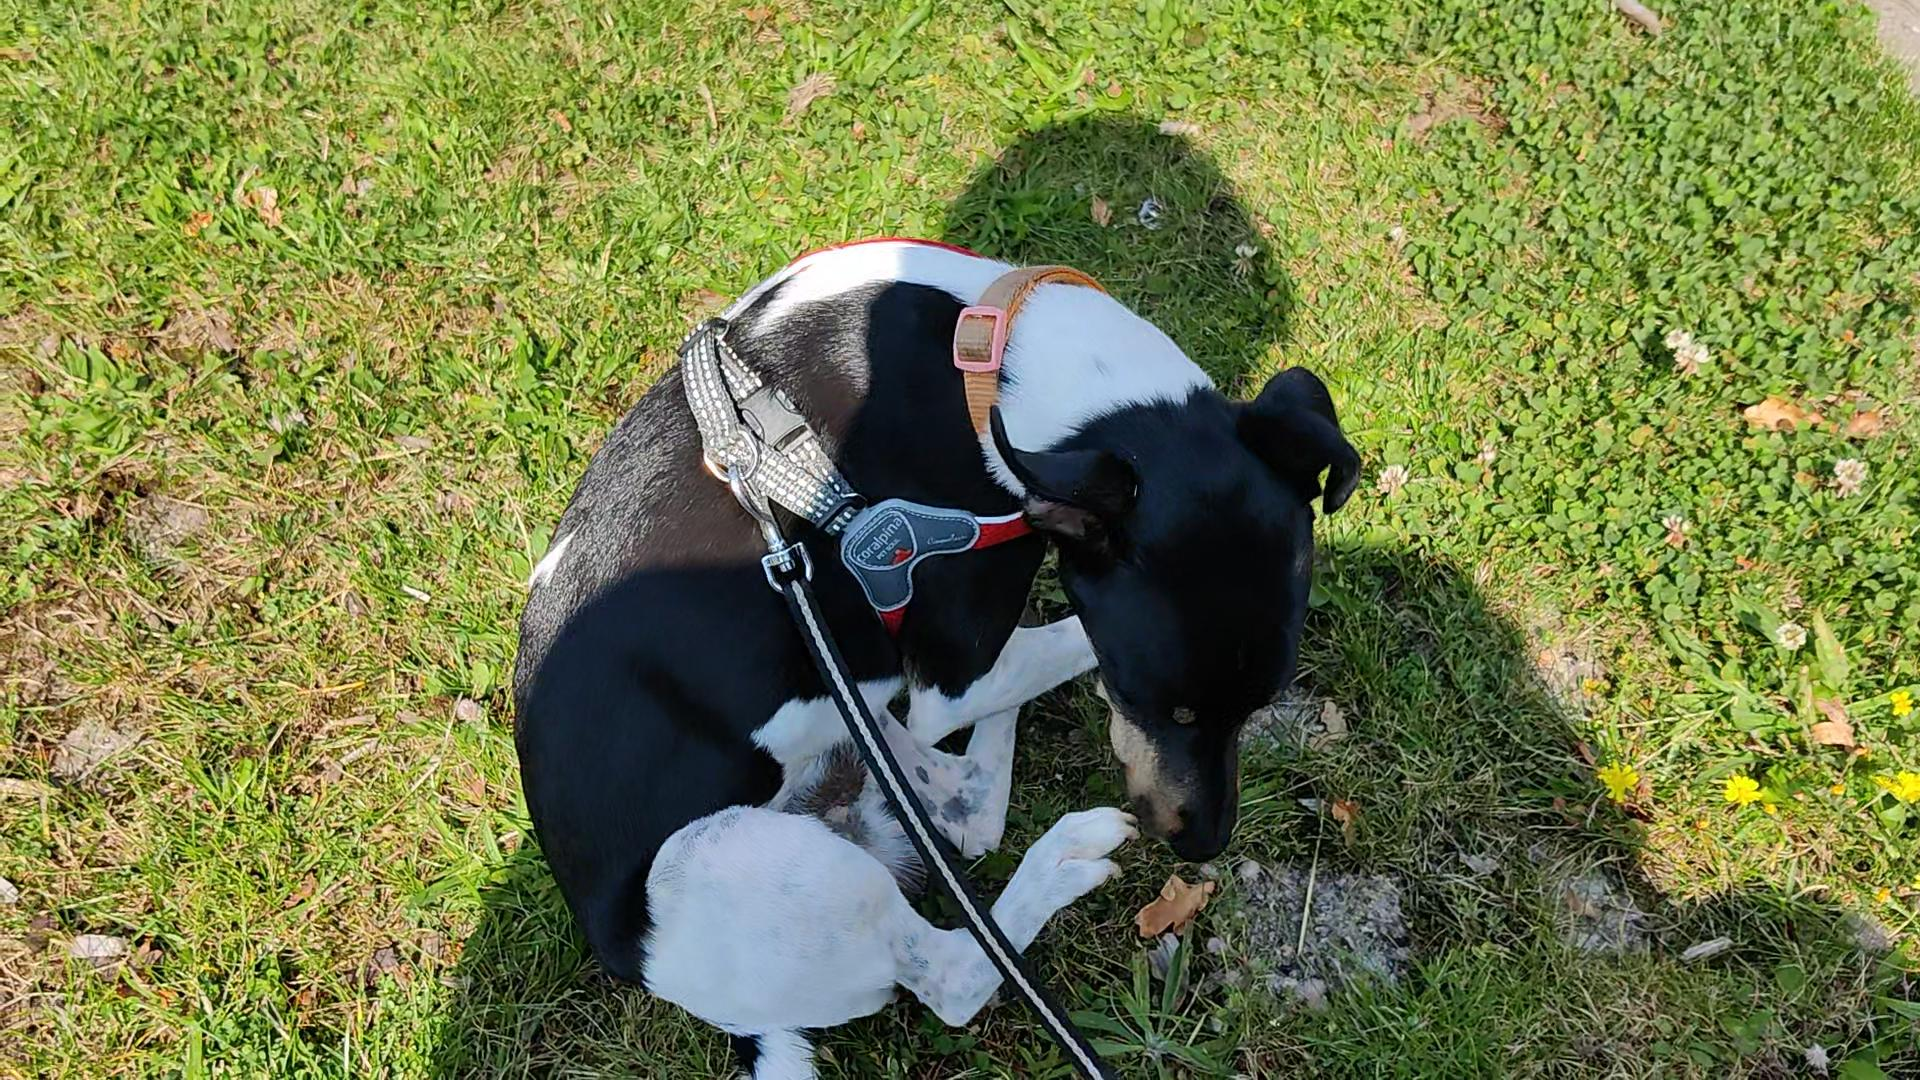Dog: (497, 235, 1371, 1079)
